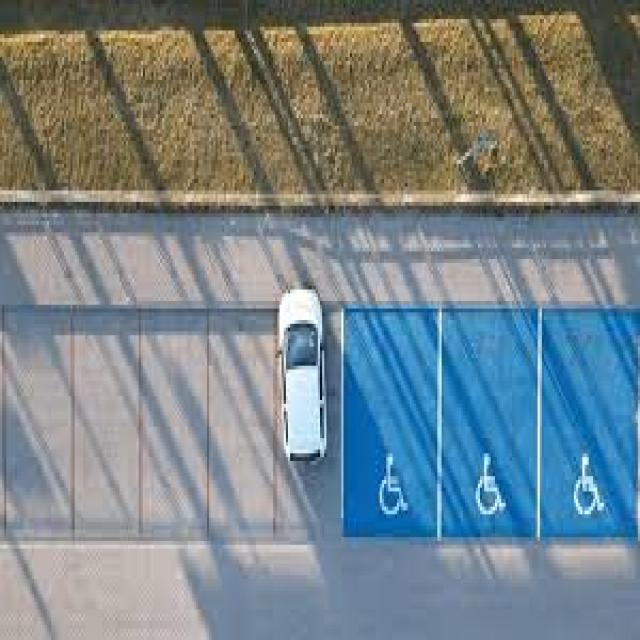car-handicap-placard: (473, 453, 507, 515), (377, 452, 409, 514), (575, 454, 604, 516)
